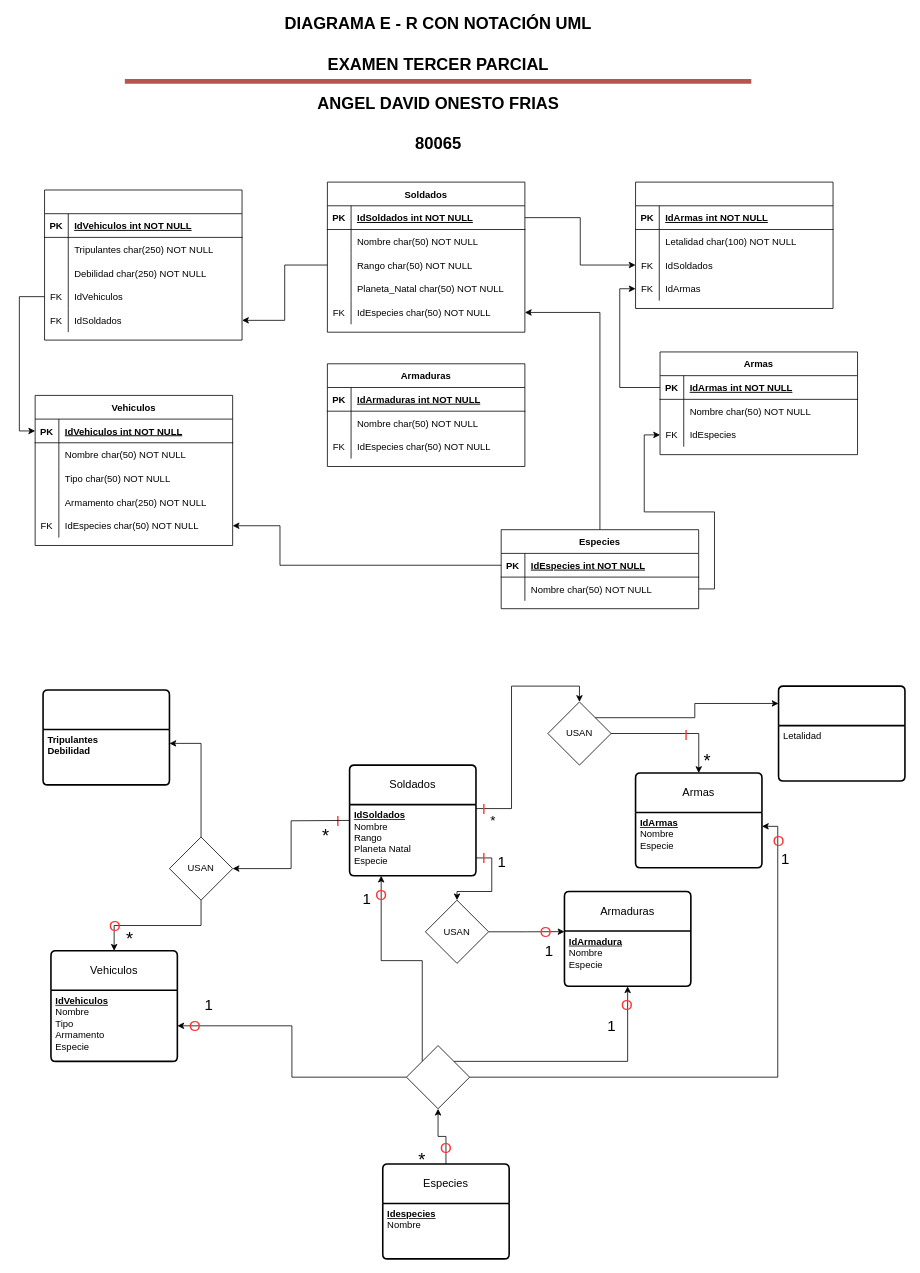
The diagram is 920 pixels wide and 1273 high, and some of its shapes have lost their labels. Here are the shapes that lost their labels. From the top down, the box of each, then its label:
(44, 189, 242, 340): DetalleVehiculos
(635, 181, 833, 308): DetalleArmas
(406, 1045, 470, 1109): TIENEN
